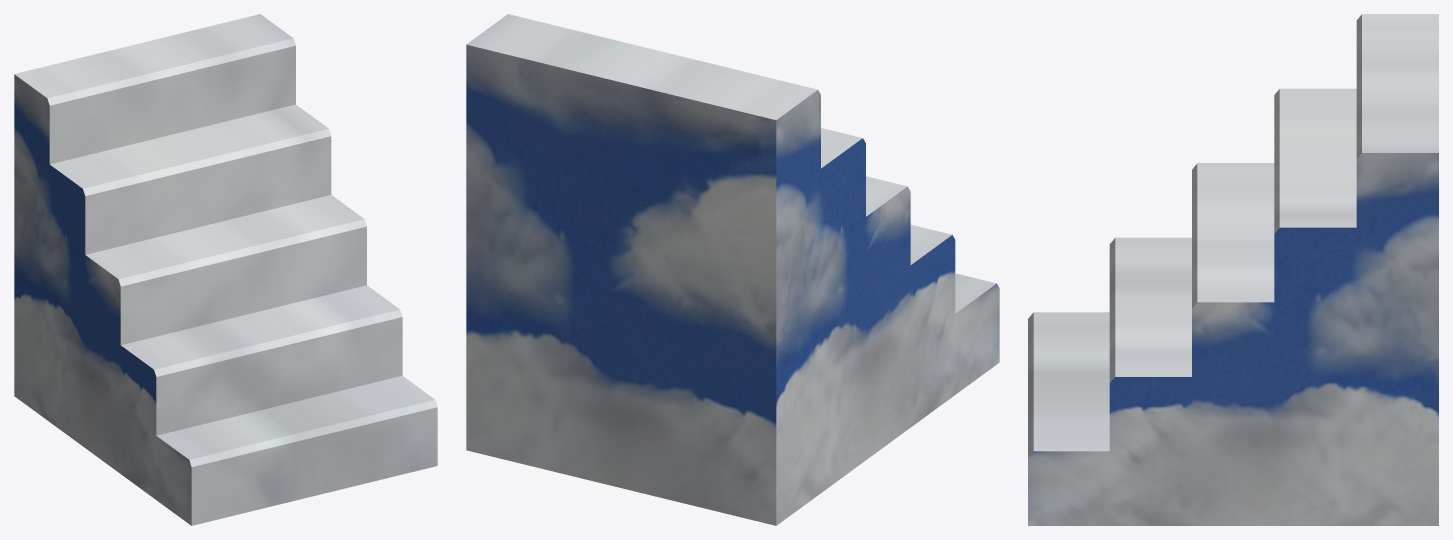
3 views of the same model, side by side, from view 1: azimuth 30°, elevation 25°; view 2: azimuth 150°, elevation 25°; view 3: azimuth 270°, elevation 25° (orthographic). The views are drawn at different scales.
Visible parts, largest first — view 1: 天梯; view 2: 天梯; view 3: 天梯.
Part boxes in pixels (box(x1,y1,x2,y2)): 天梯: box(14, 14, 437, 525); 天梯: box(466, 14, 999, 525); 天梯: box(1028, 14, 1438, 525).
Size of the model in its own units: 400 by 499 by 500.
Materials: 1 (1 with a texture image).
